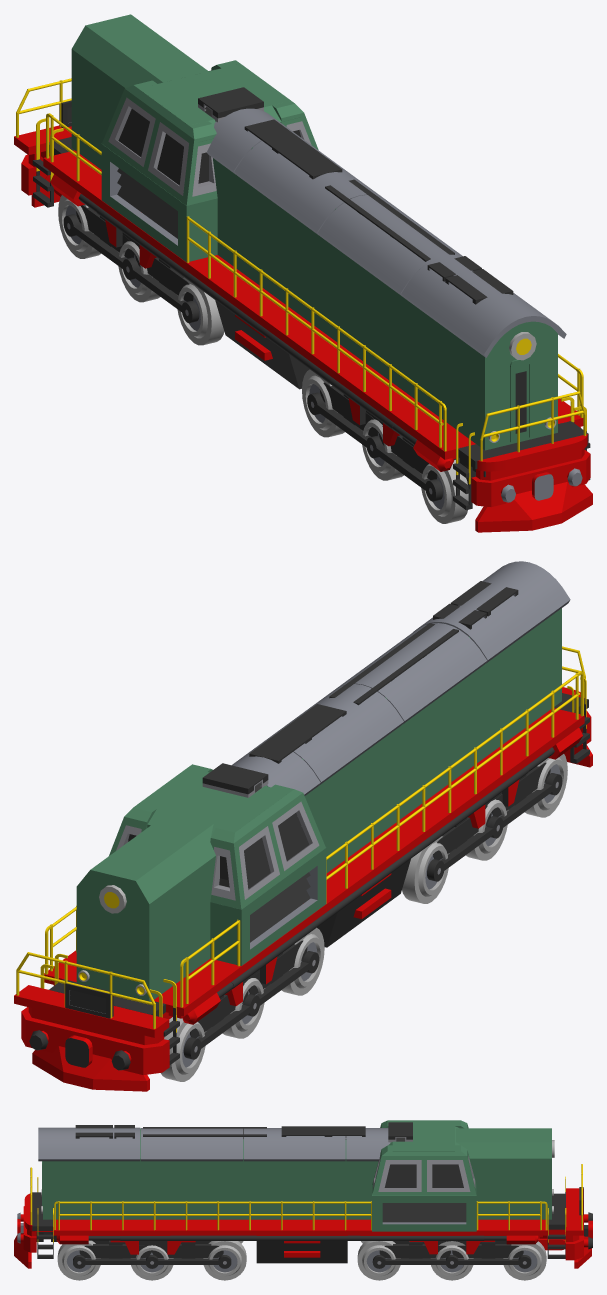
The model's file is chme3.mobile.glb.
3 views of the same model, one above another, from view 1: azimuth 30°, elevation 25°; view 2: azimuth 150°, elevation 25°; view 3: azimuth 270°, elevation 25° (orthographic). The views are drawn at different scales.
Visible parts, largest first — view 1: diesel_front_basic (×3), diesel_cabin_square (×4), block (×3), body_vent (×4), diesel_cabin_front_window (×2), wheel_medium (×6), attachment_barrelThin (×3), bogie_frame_connection (×4), coupling_large, detail_scoop, bogie_beam (×4), fuel_large (+4 smaller); view 2: diesel_front_basic (×3), diesel_cabin_square (×4), block (×2), body_vent (×5), diesel_cabin_front_window (×2), wheel_medium (×6), coupling_large, attachment_barrelThin (×3), bogie_frame_connection (×4), bogie_beam (×5), detail_scoop, fuel_large (+1 smaller); view 3: diesel_front_basic (×3), diesel_cabin_square (×4), block (×4), wheel_medium (×6), body_vent (×4), diesel_cabin_front_window, bogie_beam (×5), attachment_barrelThin (×3), bogie_frame_connection (×4), fuel_large, coupling_large (×2), bogie_frame (×2) (+4 smaller).
Boxes of the visible parts, <box> form: diesel_front_basic (×3): <box>71,14,557,450</box>; diesel_cabin_square (×4): <box>207,108,566,406</box>; block (×3): <box>14,125,588,469</box>; body_vent (×4): <box>101,119,513,304</box>; diesel_cabin_front_window (×2): <box>102,60,318,205</box>; wheel_medium (×6): <box>58,195,468,523</box>; attachment_barrelThin (×3): <box>96,207,443,430</box>; bogie_frame_connection (×4): <box>63,214,442,501</box>; coupling_large: <box>471,448,590,507</box>; detail_scoop: <box>475,482,592,532</box>; bogie_beam (×4): <box>76,205,475,484</box>; fuel_large: <box>215,300,309,389</box>; diesel_front_basic (×3): <box>76,608,561,1001</box>; diesel_cabin_square (×4): <box>232,561,570,795</box>; block (×2): <box>14,708,584,1037</box>; body_vent (×5): <box>65,581,518,1018</box>; diesel_cabin_front_window (×2): <box>109,764,325,909</box>; wheel_medium (×6): <box>161,754,567,1081</box>; coupling_large: <box>21,1007,169,1075</box>; attachment_barrelThin (×3): <box>231,672,580,988</box>; bogie_frame_connection (×4): <box>183,773,562,1059</box>; bogie_beam (×5): <box>49,762,550,1041</box>; detail_scoop: <box>32,1046,149,1091</box>; fuel_large: <box>317,859,410,947</box>; diesel_front_basic (×3): <box>43,1120,551,1219</box>; diesel_cabin_square (×4): <box>38,1127,390,1161</box>; block (×4): <box>32,1188,583,1235</box>; wheel_medium (×6): <box>57,1240,546,1280</box>; body_vent (×4): <box>75,1125,476,1231</box>; diesel_cabin_front_window: <box>372,1145,476,1195</box>; bogie_beam (×5): <box>79,1229,565,1258</box>; attachment_barrelThin (×3): <box>59,1201,484,1240</box>; bogie_frame_connection (×4): <box>73,1240,531,1268</box>; fuel_large: <box>256,1235,347,1263</box>; coupling_large (×2): <box>17,1206,592,1260</box>; bogie_frame (×2): <box>110,1240,494,1254</box>.
Size of the model in its own units: 2.92 by 4.16 by 16.33.
